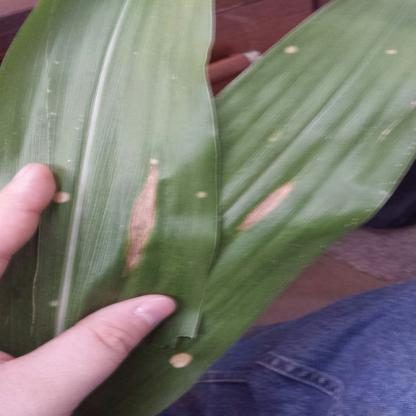Corn leaf blight: (212, 5, 412, 291), (56, 2, 215, 290)
